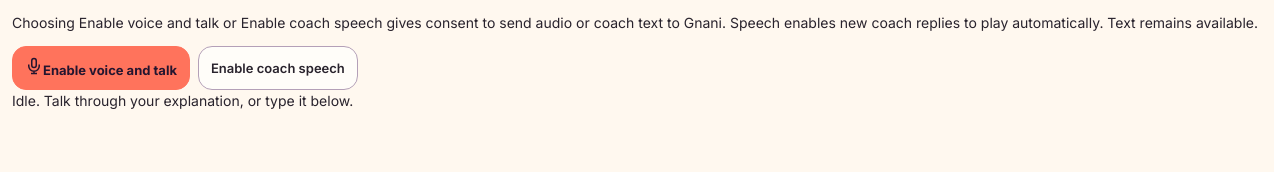
Test: studio voice race safety › ignores stale response epochs even when the request is still current
The image size is (1274, 172).
Click the button "Enable voice and talk" at (101, 68), box [12,46,190,90]
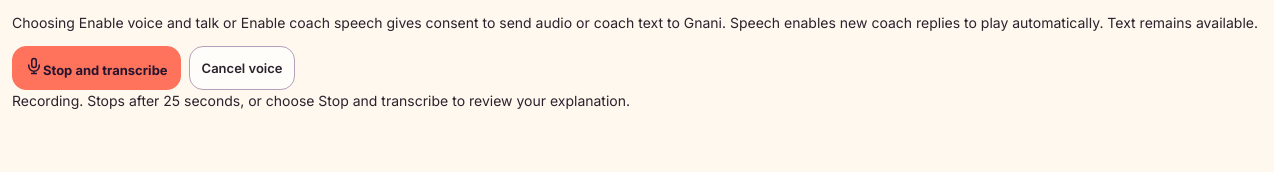
Check: the button "Stop and transcribe" is shown
Click the button "Stop and transcribe" at (96, 68), box [12,46,181,90]
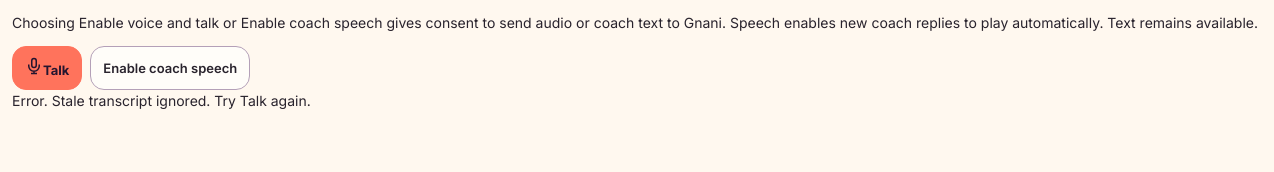
Check: the button "Talk" is shown, box [12,46,82,90]
Check: the message reads "Error. Stale transcript ignored. Try Talk again.", box [12,92,311,109]
